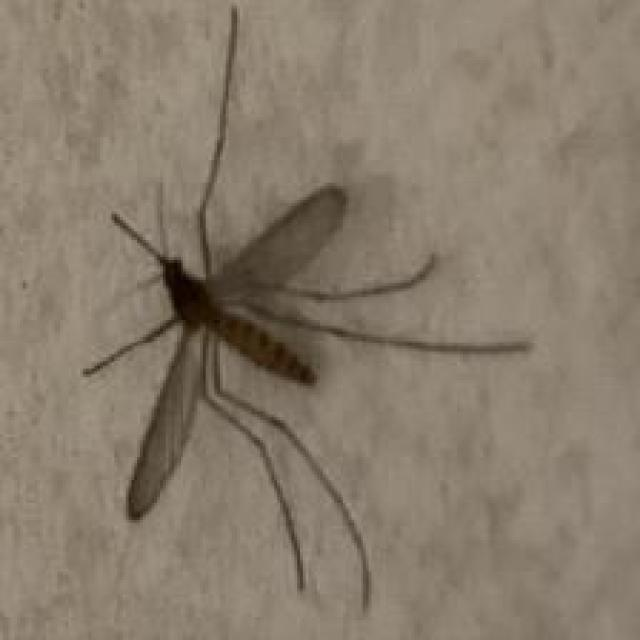Culex: (78, 3, 536, 614)
